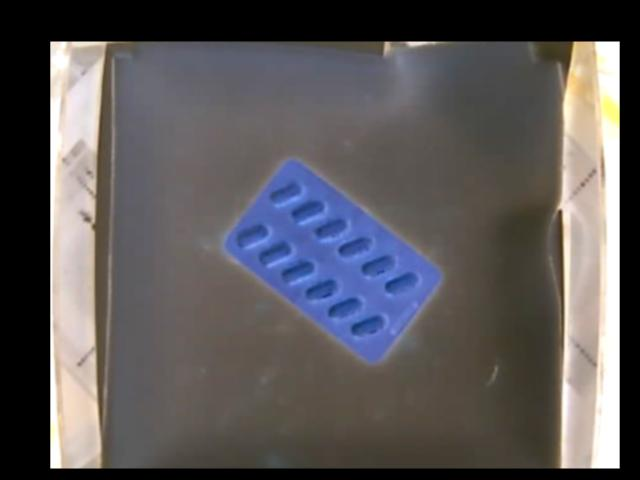Medicine: (225, 158, 441, 361)
